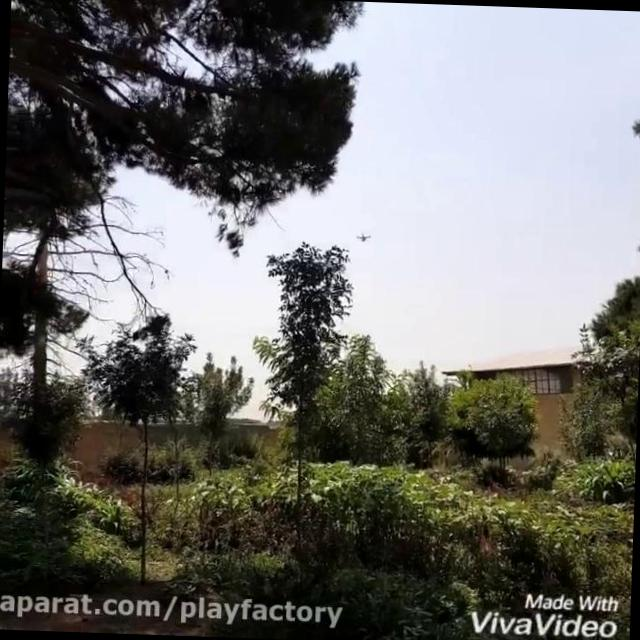drone: (353, 225, 376, 246)
